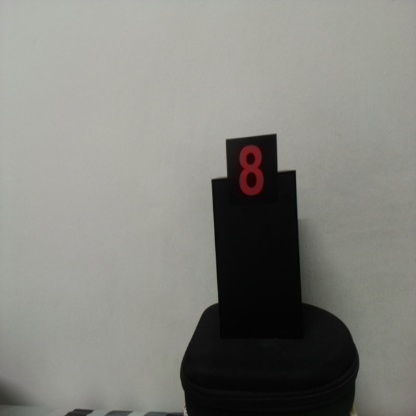id_8: (226, 139, 278, 217)
